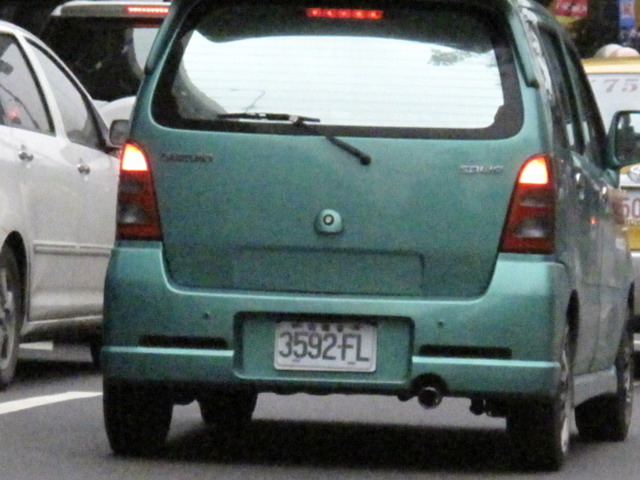plate: (270, 317, 380, 375)
